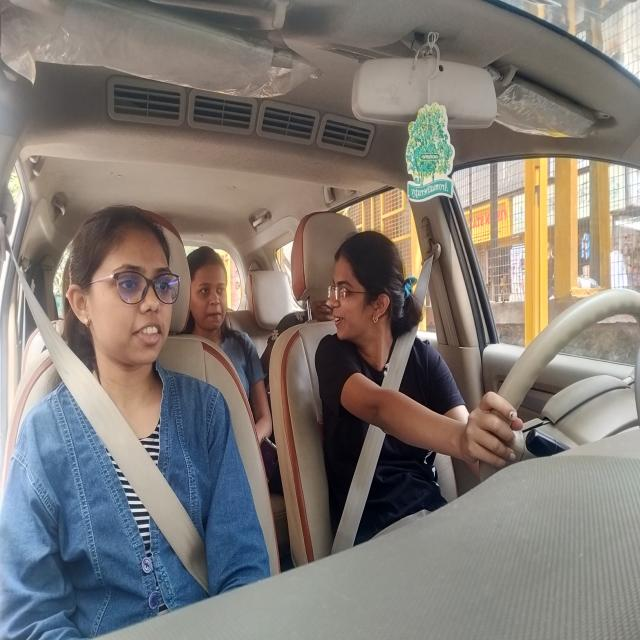LeftRight: (325, 232, 405, 356)
person: (63, 205, 179, 370), (185, 247, 230, 335)
talking: (331, 312, 351, 329)
